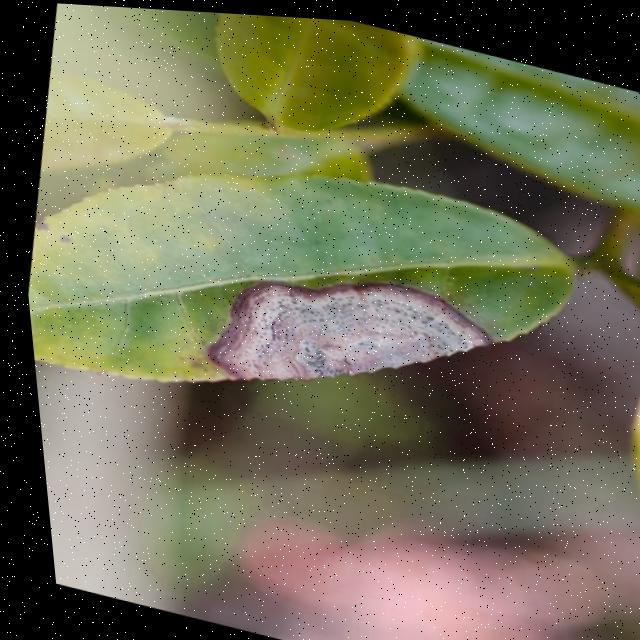Tea cloud leaf blight: (182, 238, 505, 480)
